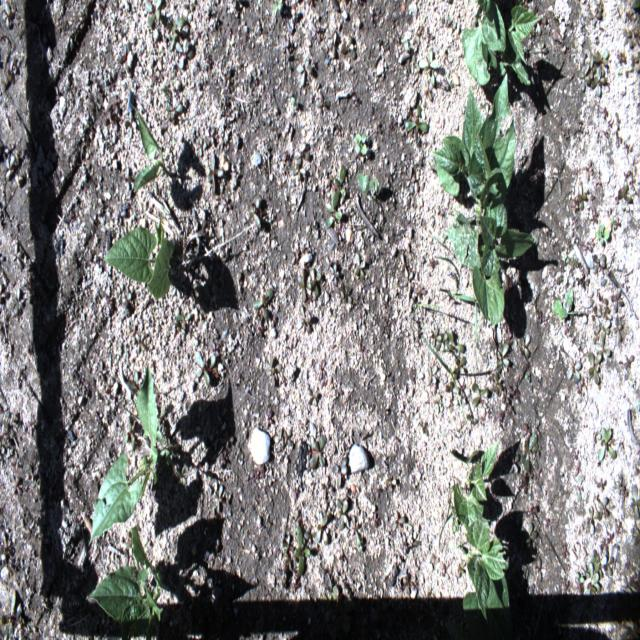crop: (432, 72, 538, 324), (88, 362, 166, 548), (450, 437, 512, 638), (84, 524, 171, 639), (461, 0, 543, 85), (102, 219, 175, 300), (128, 99, 178, 193)
weed: (418, 46, 440, 86), (294, 526, 311, 577), (552, 285, 574, 321), (404, 102, 428, 134), (194, 350, 215, 386), (329, 164, 346, 208), (206, 155, 223, 195), (598, 426, 616, 462), (253, 288, 273, 320), (584, 561, 600, 600), (357, 172, 378, 201), (174, 38, 194, 67), (310, 435, 326, 470), (524, 433, 538, 472), (170, 17, 185, 52), (297, 269, 312, 303), (587, 351, 602, 384), (315, 510, 329, 545), (165, 95, 183, 122), (430, 325, 447, 353), (471, 381, 489, 407), (332, 458, 347, 489), (593, 48, 608, 79), (145, 0, 161, 28), (590, 68, 606, 96), (325, 203, 342, 229), (446, 328, 464, 352), (335, 497, 348, 529), (307, 268, 321, 297), (618, 180, 632, 209), (586, 505, 600, 534), (496, 344, 510, 372), (590, 555, 606, 579), (630, 484, 640, 521), (567, 357, 582, 380), (354, 132, 368, 156), (578, 64, 590, 92), (596, 222, 610, 245), (452, 356, 466, 379), (576, 182, 586, 211), (426, 364, 439, 386), (598, 497, 610, 520), (588, 6, 602, 25), (520, 333, 530, 358)
